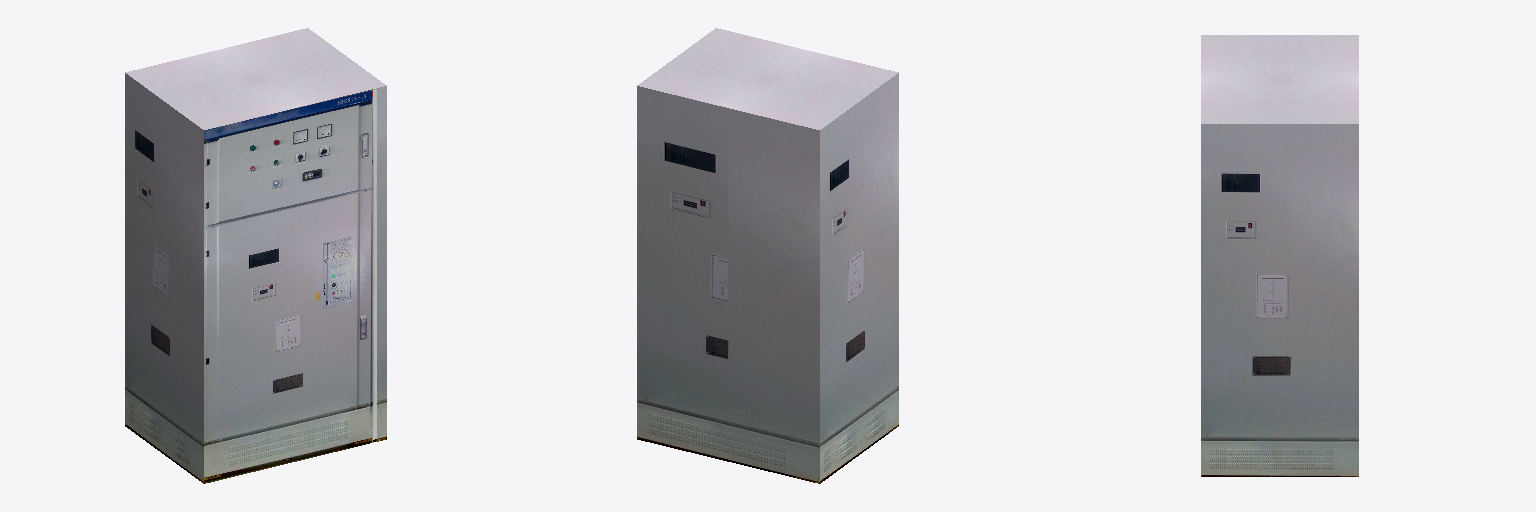
The picture shows the model from 3 angles: view 1: azimuth 30°, elevation 25°; view 2: azimuth 150°, elevation 25°; view 3: azimuth 270°, elevation 25°; orthographic projection.
Visible parts, largest first — view 1: peidiangui_1; view 2: peidiangui_1; view 3: peidiangui_1.
Part boxes in pixels (bbox=[...]): peidiangui_1: bbox=[125, 28, 386, 483]; peidiangui_1: bbox=[637, 28, 898, 483]; peidiangui_1: bbox=[1201, 35, 1358, 476].
Bounding box in the file's own units: 108 × 200 × 81.16.
1 materials, 1 textured.